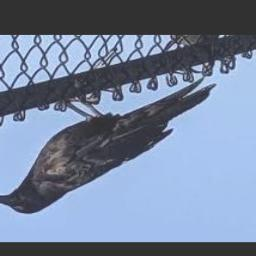Crow: (0, 76, 217, 215)
